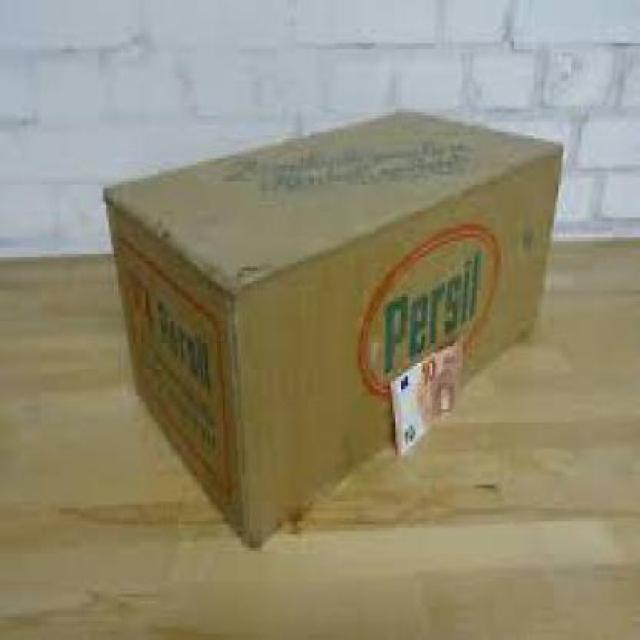cardboard: (106, 112, 562, 545)
